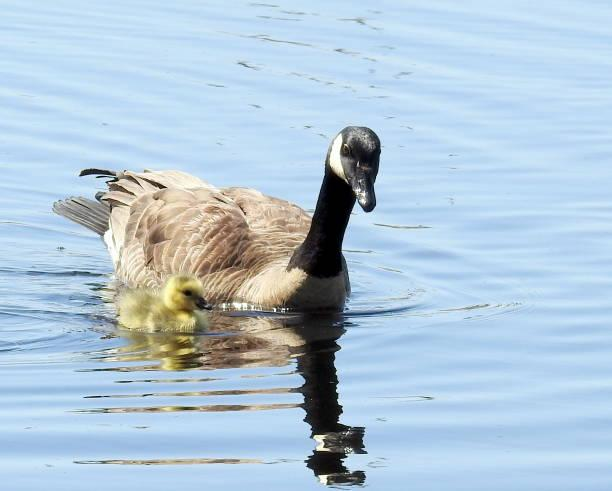Canadian-Goose: (58, 121, 391, 318)
